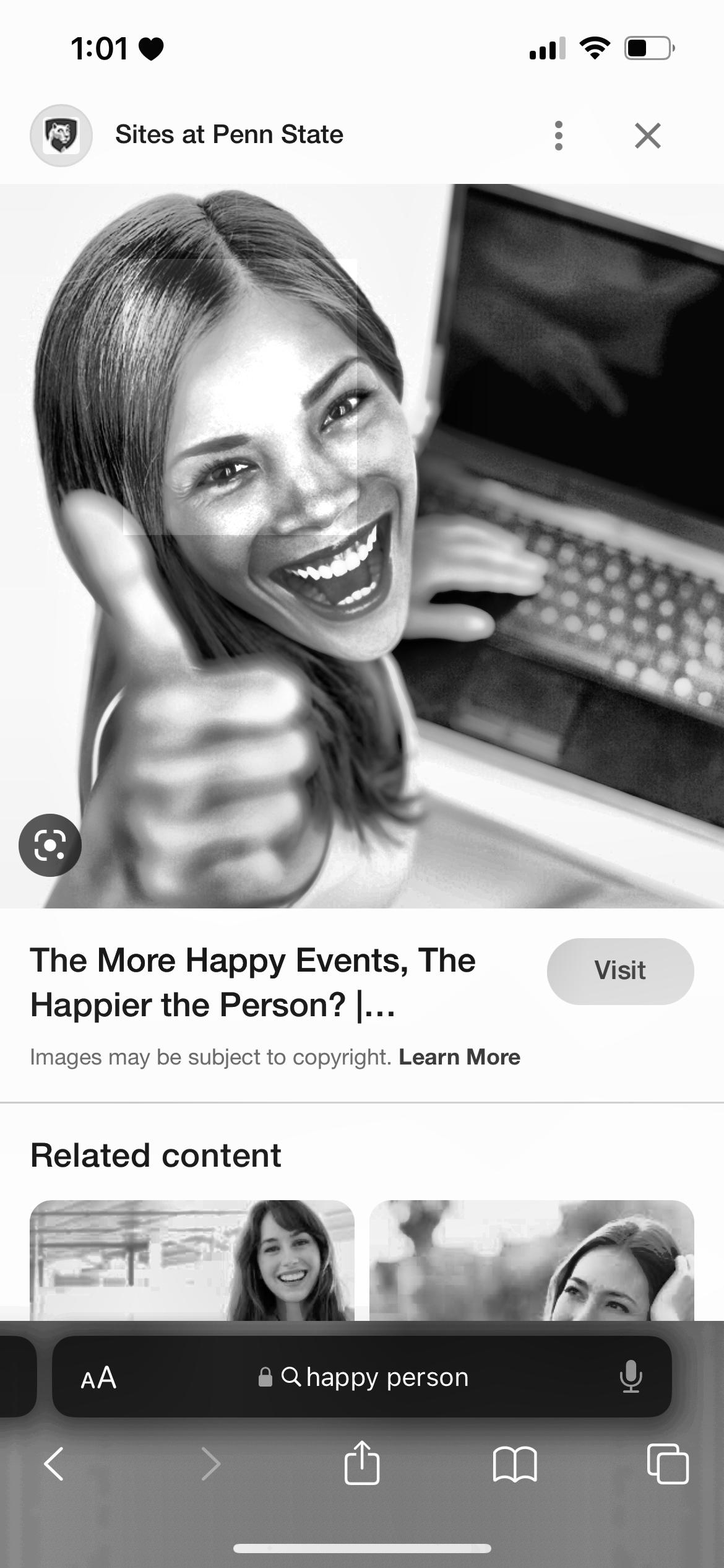Happy: (152, 320, 442, 661)
